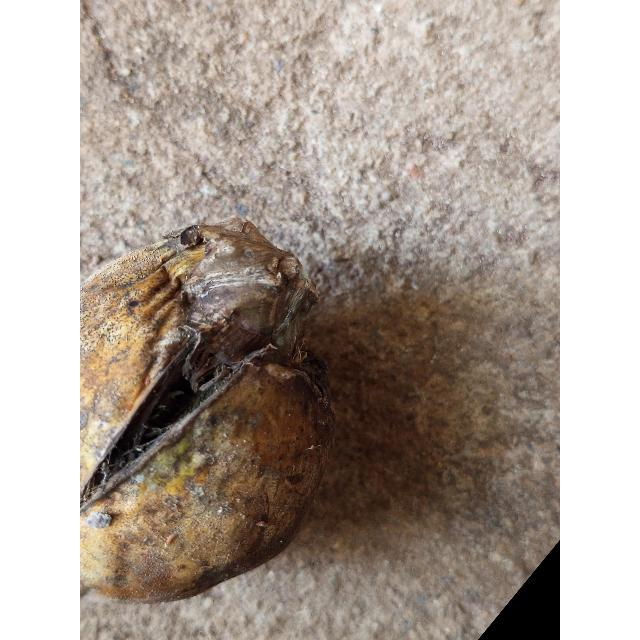damaged: (80, 218, 335, 602)
